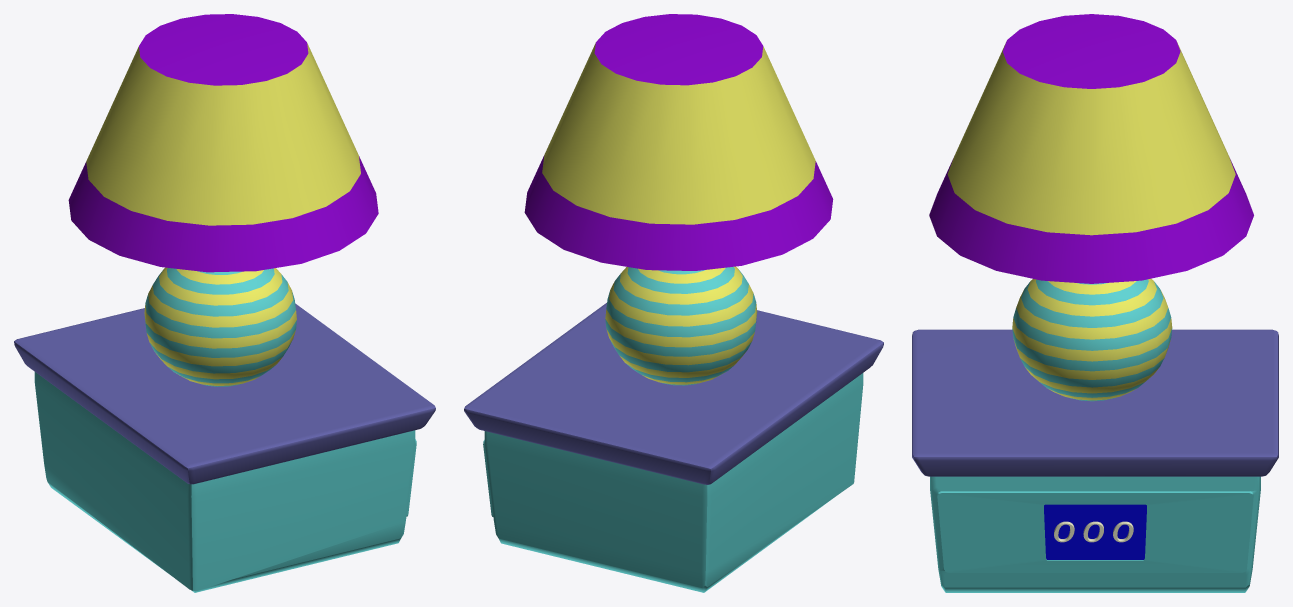
Rendered from lamp.fbx.
3 views of the same model, side by side, from view 1: azimuth 30°, elevation 25°; view 2: azimuth 150°, elevation 25°; view 3: azimuth 270°, elevation 25° (orthographic). The views are drawn at different scales.
Parts seen in each view (by area): view 1: pCylinder35, pCube38, pCube37, pSphere1; view 2: pCylinder35, pCube38, pCube37, pSphere1; view 3: pCylinder35, pCube37, pCube38, pSphere1.
Boxes of the visible parts, x1,y1,x2,y2 form: pCylinder35: (68,14,378,272); pCube38: (34,372,416,592); pCube37: (14,303,435,484); pSphere1: (144,267,296,386); pCylinder35: (524,14,833,270); pCube38: (483,373,863,592); pCube37: (464,303,883,484); pSphere1: (605,266,757,385); pCylinder35: (929,14,1253,283); pCube37: (912,329,1278,476); pCube38: (930,476,1260,592); pSphere1: (1012,278,1172,401).
Size of the model in its own units: 4.92 by 8.19 by 5.55.
